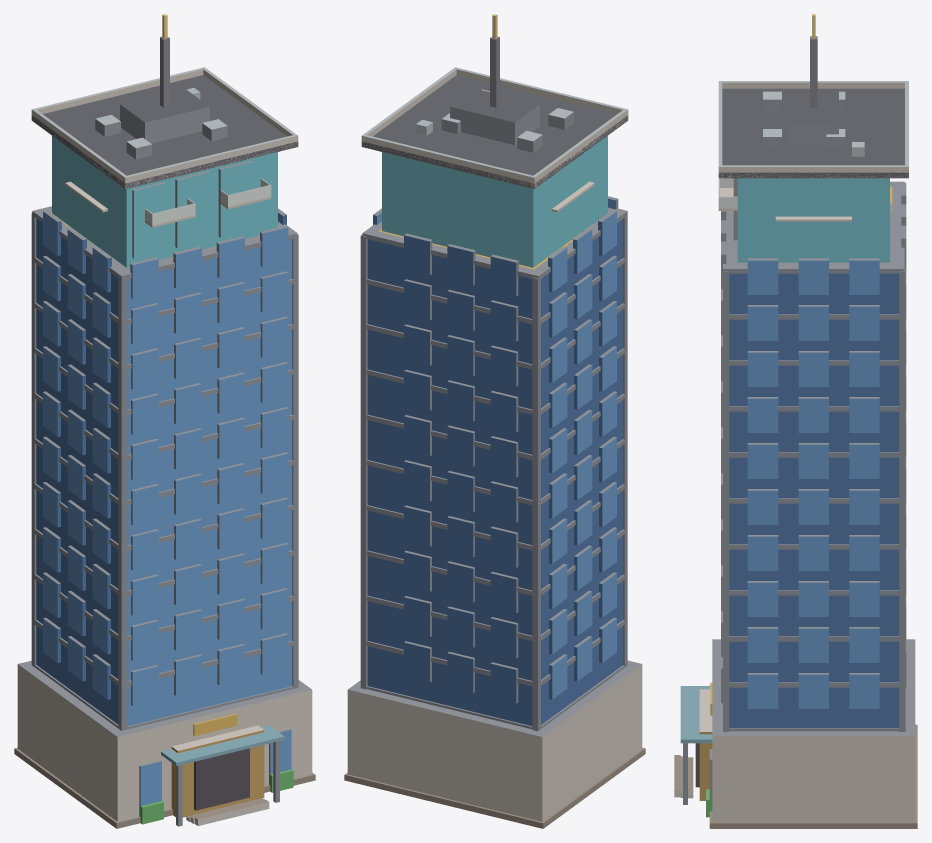
File: ResidentialSkyscraper.fbx
The picture shows the model from 3 angles, left to right: view 1: azimuth 30°, elevation 25°; view 2: azimuth 150°, elevation 25°; view 3: azimuth 270°, elevation 25°; orthographic projection.
Parts seen in each view (by area): view 1: ResidentialSkyscraper; view 2: ResidentialSkyscraper; view 3: ResidentialSkyscraper.
Part boxes in pixels (left/top/right/bottom): ResidentialSkyscraper: left=14, top=14, right=315, bottom=828; ResidentialSkyscraper: left=344, top=14, right=645, bottom=828; ResidentialSkyscraper: left=674, top=14, right=917, bottom=828.
Bounding box in the file's own units: 1840 × 6650 × 1920.
